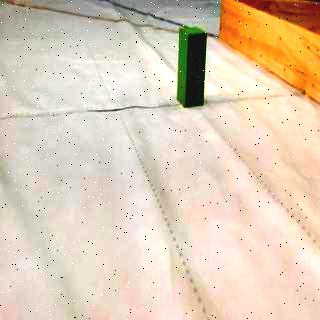greenbox: (176, 24, 210, 110)
